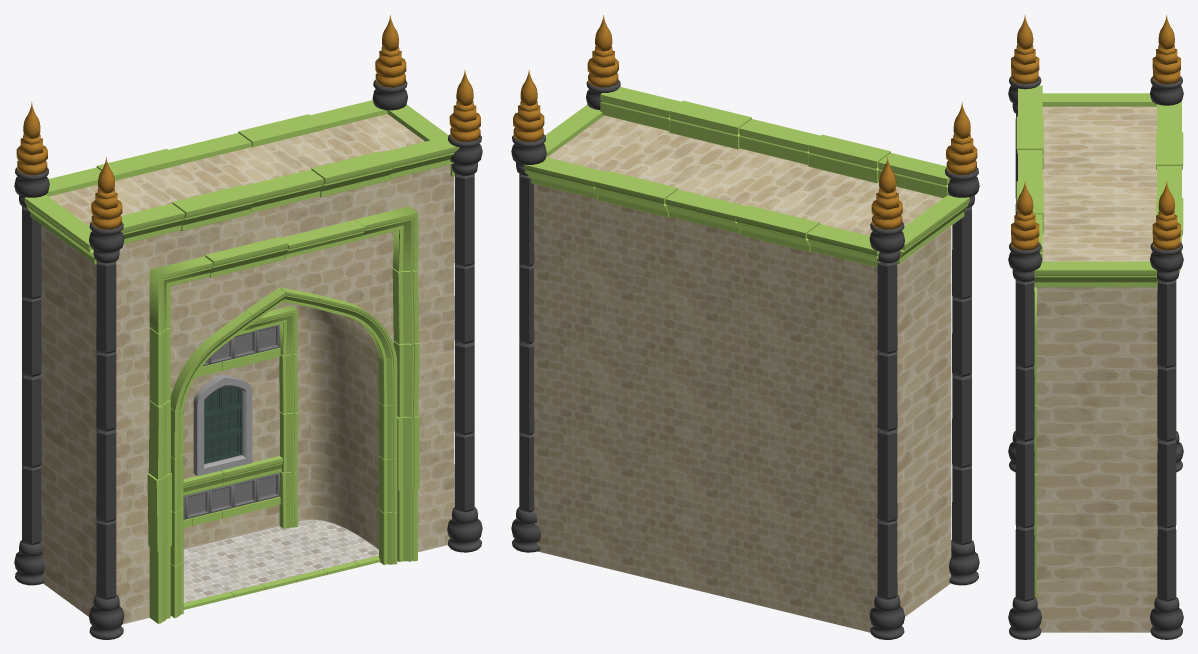
The model's file is SM_wall_large_07.fbx.
3 views of the same model, side by side, from view 1: azimuth 30°, elevation 25°; view 2: azimuth 150°, elevation 25°; view 3: azimuth 270°, elevation 25° (orthographic). The views are drawn at different scales.
Visible parts, largest first — view 1: Object33157; view 2: Object33157; view 3: Object33157.
Boxes of the visible parts, bbox=[...] form: Object33157: bbox=[14, 14, 482, 639]; Object33157: bbox=[511, 15, 979, 639]; Object33157: bbox=[1008, 15, 1183, 639].
Size of the model in its own units: 679 by 798 by 279.
